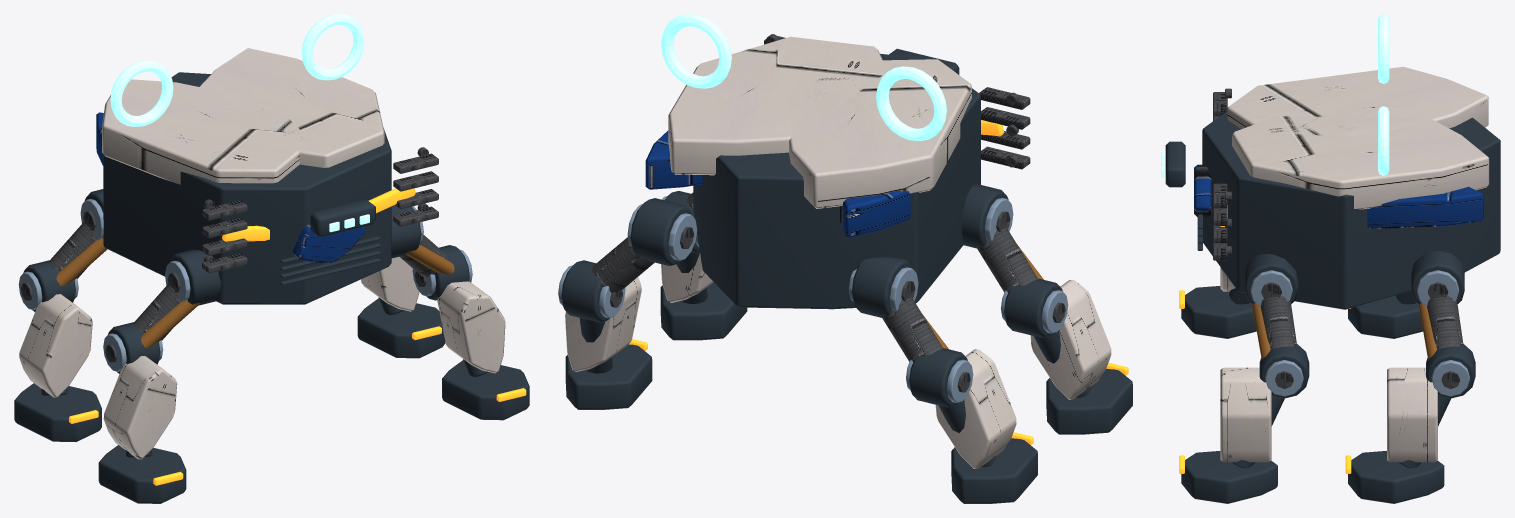
File: patrol_1.glb
3 views of the same model, side by side, from view 1: azimuth 30°, elevation 25°; view 2: azimuth 150°, elevation 25°; view 3: azimuth 270°, elevation 25° (orthographic). The views are drawn at different scales.
Parts seen in each view (by area): view 1: Sloped crawler body, Layered beetle carapace, Servo housing.002, Servo housing.006, Swept crawler greave, Swept crawler greave.001, Servo housing, Patrol cooling vent, Swept crawler greave.003, Patrol halo, Servo housing.004, Swept cobalt shell (+10 smaller); view 2: Layered beetle carapace, Sloped crawler body, Servo housing, Servo housing.004, Servo housing.002, Patrol halo, Swept crawler greave.001, Swept crawler greave, Servo housing.006, Swept cobalt shell, Swept crawler greave.002, Patrol cooling vent (+7 smaller); view 3: Layered beetle carapace, Sloped crawler body, Servo housing.004, Servo housing.006, Swept crawler greave.003, Swept crawler greave.002, Swept cobalt shell, Servo housing.002, Servo housing, Hub.008, Hub.012, Patrol halo (+5 smaller).
Part boxes in pixels (box(x1,y1,x2,y2)): Sloped crawler body: box(103, 72, 391, 304); Layered beetle carapace: box(102, 48, 384, 184); Servo housing.002: box(98, 249, 220, 503); Servo housing.006: box(391, 205, 529, 420); Swept crawler greave: box(19, 294, 92, 397); Swept crawler greave.001: box(103, 356, 177, 459); Servo housing: box(14, 189, 103, 441); Patrol cooling vent: box(202, 147, 438, 273); Swept crawler greave.003: box(437, 281, 505, 373); Patrol halo: box(110, 14, 369, 232); Servo housing.004: box(357, 297, 445, 358); Swept cobalt shell: box(96, 112, 365, 263); Layered beetle carapace: box(668, 36, 971, 208); Sloped crawler body: box(693, 48, 980, 309); Servo housing: box(851, 257, 1037, 503); Servo housing.004: box(561, 198, 692, 409); Servo housing.002: box(962, 184, 1132, 434); Patrol halo: box(661, 14, 946, 140); Swept crawler greave.001: box(1030, 280, 1111, 399); Swept crawler greave: box(935, 349, 1016, 468); Servo housing.006: box(660, 191, 747, 340); Swept cobalt shell: box(645, 130, 910, 238); Swept crawler greave.002: box(565, 277, 641, 372); Patrol cooling vent: box(764, 34, 1030, 169); Layered beetle carapace: box(1227, 66, 1489, 209); Sloped crawler body: box(1165, 111, 1500, 309); Servo housing.004: box(1348, 251, 1475, 503); Servo housing.006: box(1181, 254, 1309, 503); Swept crawler greave.003: box(1220, 367, 1271, 462); Swept crawler greave.002: box(1387, 367, 1437, 462); Swept cobalt shell: box(1194, 164, 1483, 229); Servo housing.002: box(1181, 286, 1256, 338); Servo housing: box(1348, 291, 1422, 338); Hub.008: box(1427, 282, 1463, 388); Hub.012: box(1260, 282, 1296, 388); Patrol halo: box(1161, 14, 1389, 177).
Size of the model in its own units: 1.46 by 1.18 by 1.06.
8 materials, 3 textured.
